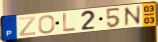2: (80, 9, 98, 33)
5: (106, 7, 121, 30)
L: (62, 12, 77, 33)
N: (123, 4, 143, 28)
O: (37, 14, 56, 35)
Z: (18, 15, 37, 37)
